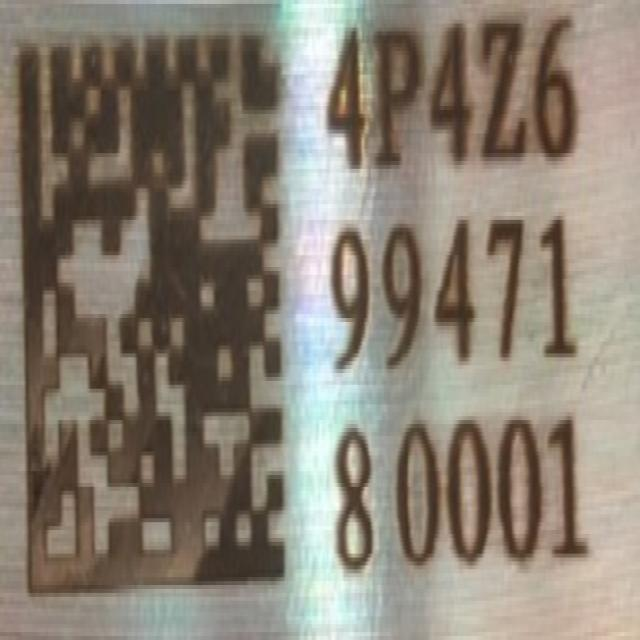dmc: (20, 33, 285, 593)
